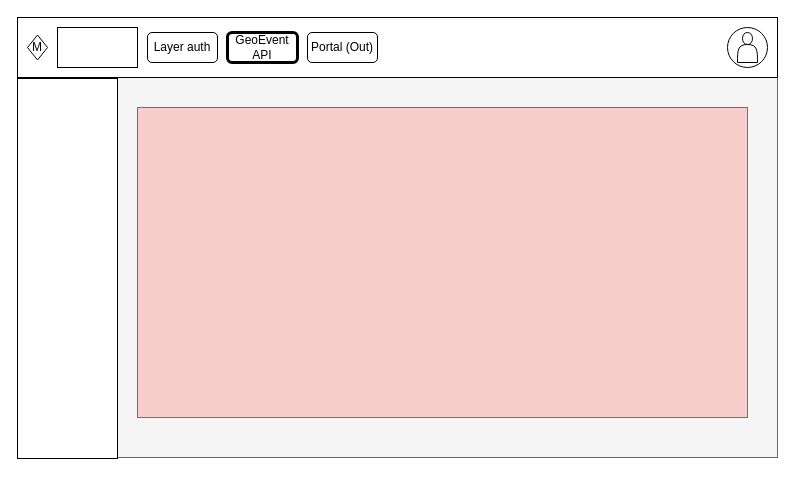
Some shapes in this 795 by 484 pixel diagram are drawn without their labels. The shapes that lost their labels are listed below. From the top down, each one's centre as x and y in pixels, then its label:
(97,47): Title
(67,268): Static GeoFences Dyamic GeoFences
